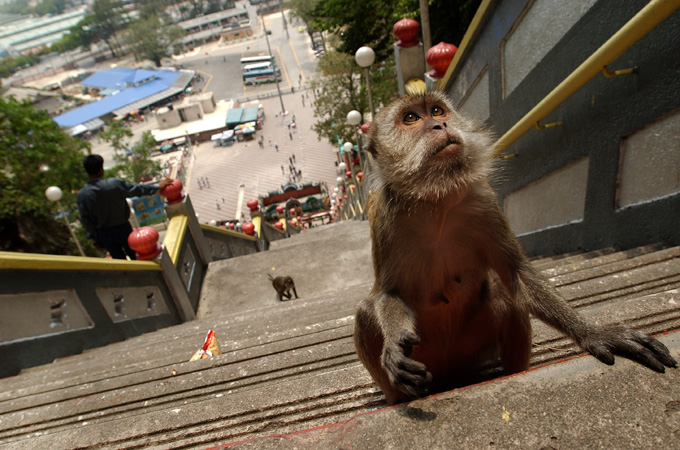monkey_body: (354, 196, 588, 415), (264, 270, 303, 298)
monkey_face: (357, 94, 530, 221)
